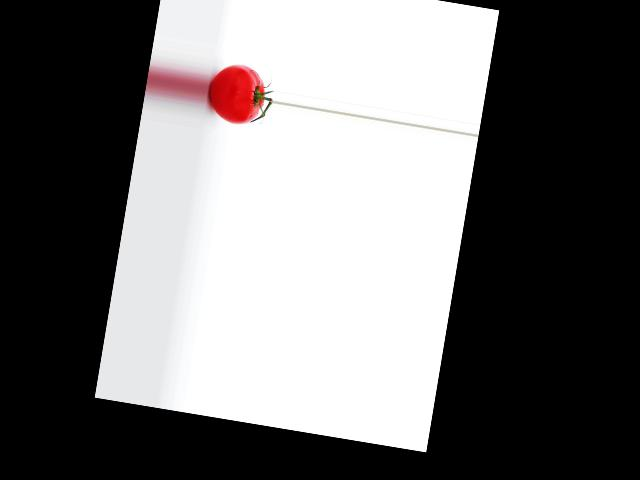tomato: (205, 59, 268, 126)
